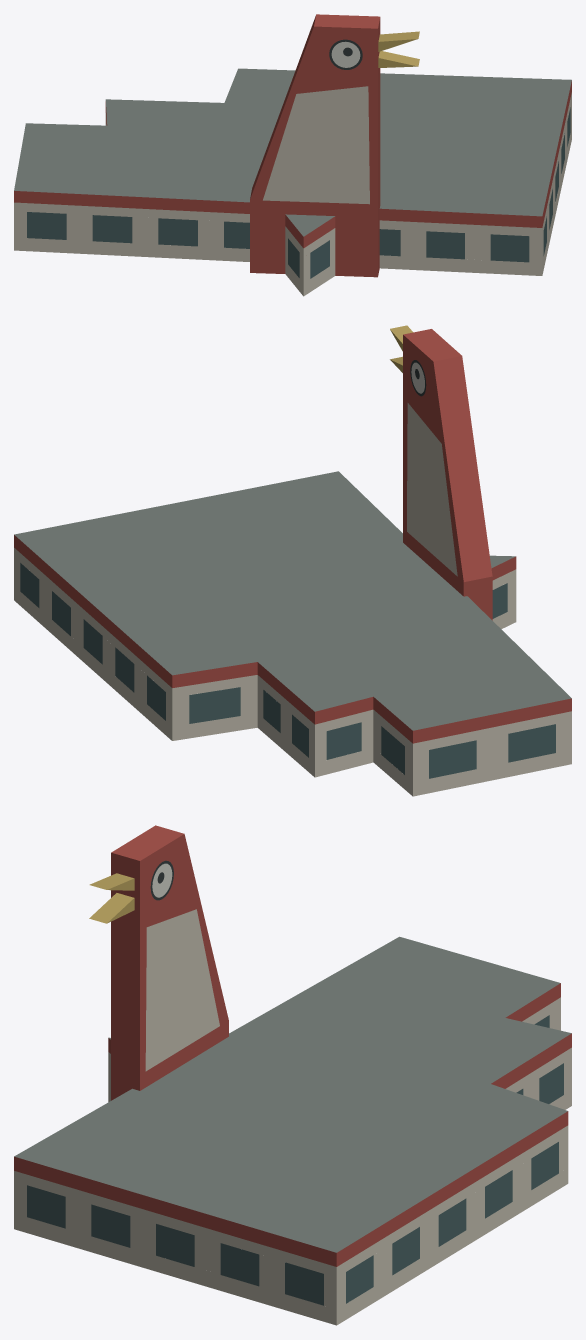
The model's file is big-chicken-marietta-near.glb.
3 views of the same model, one above another, from view 1: azimuth 30°, elevation 25°; view 2: azimuth 150°, elevation 25°; view 3: azimuth 270°, elevation 25° (orthographic). The views are drawn at different scales.
Visible parts, largest first — view 1: big-chicken-marietta-0-roof, big-chicken-marietta-0-stone, big-chicken-marietta-0-brick, big-chicken-marietta-0-glass, big-chicken-marietta-0-gold, big-chicken-marietta-0-white; view 2: big-chicken-marietta-0-roof, big-chicken-marietta-0-stone, big-chicken-marietta-0-brick, big-chicken-marietta-0-glass; view 3: big-chicken-marietta-0-roof, big-chicken-marietta-0-stone, big-chicken-marietta-0-brick, big-chicken-marietta-0-glass, big-chicken-marietta-0-gold.
Part boxes in pixels (x1,y1,x2,y2): big-chicken-marietta-0-roof: (14,68,571,236); big-chicken-marietta-0-stone: (14,86,571,296); big-chicken-marietta-0-brick: (14,14,571,277); big-chicken-marietta-0-glass: (27,107,570,278); big-chicken-marietta-0-gold: (378,31,419,67); big-chicken-marietta-0-white: (331,41,360,67); big-chicken-marietta-0-roof: (14,471,571,730); big-chicken-marietta-0-stone: (14,403,571,796); big-chicken-marietta-0-brick: (14,329,571,743); big-chicken-marietta-0-glass: (20,563,555,778); big-chicken-marietta-0-roof: (14,936,571,1252); big-chicken-marietta-0-stone: (14,909,571,1325); big-chicken-marietta-0-brick: (14,825,571,1266); big-chicken-marietta-0-glass: (27,1015,563,1305); big-chicken-marietta-0-gold: (89,873,134,923).
Bounding box in the file's own units: 38.25 × 17.07 × 28.52.
